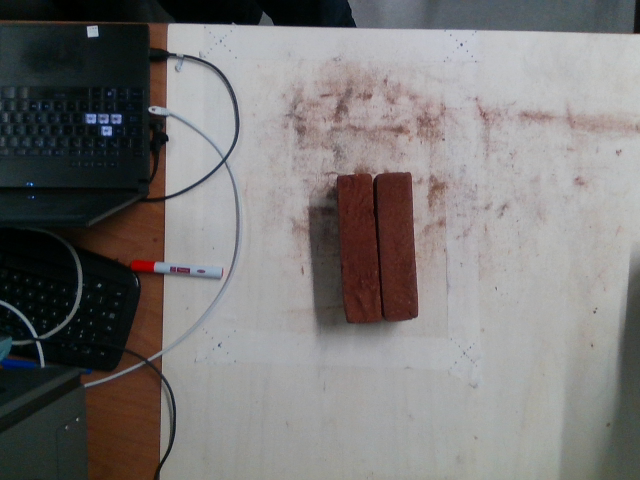brick-side: (374, 173, 419, 318), (337, 176, 381, 320)
